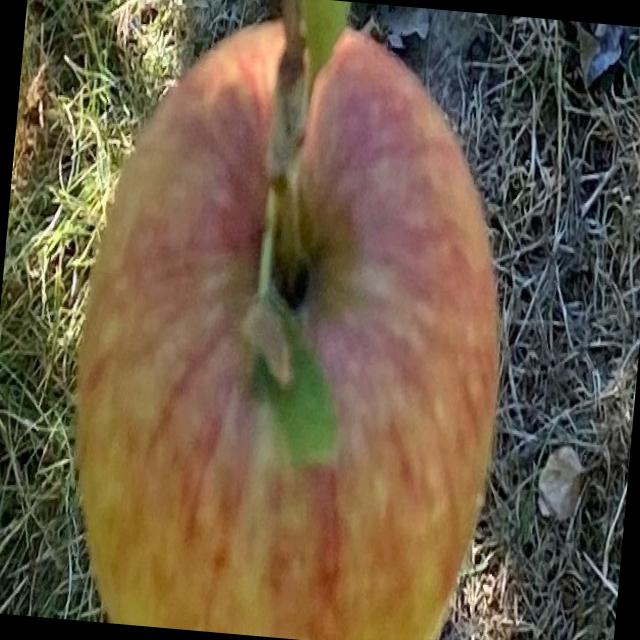Apples: (53, 2, 530, 639)
